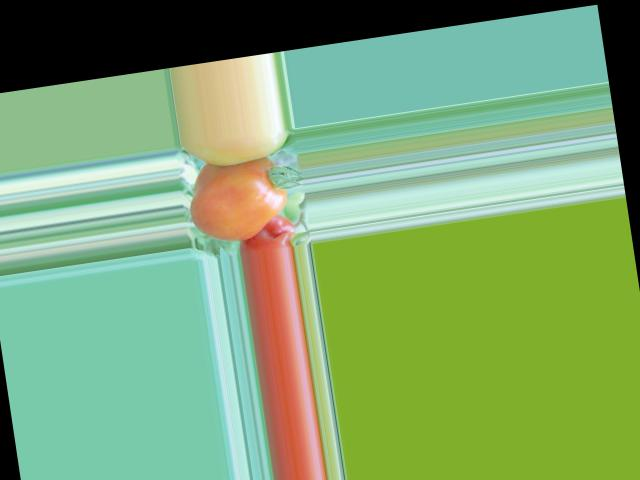tomato: (184, 156, 292, 246)
